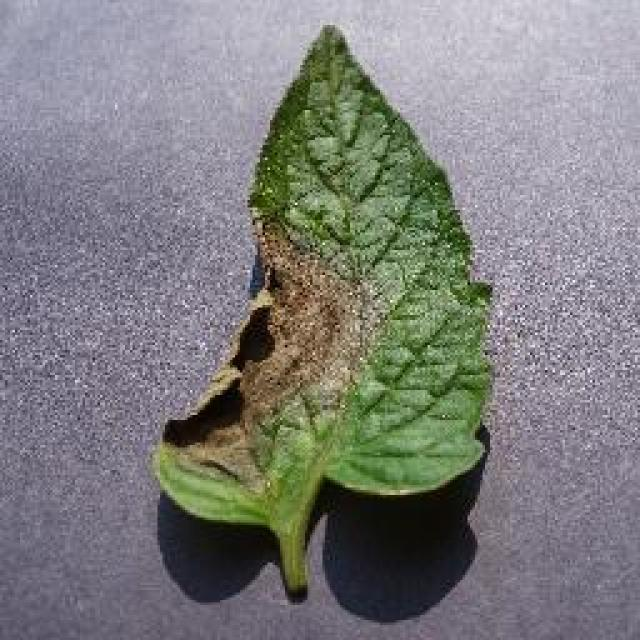Tomato___Late_blight: (152, 25, 495, 605)
